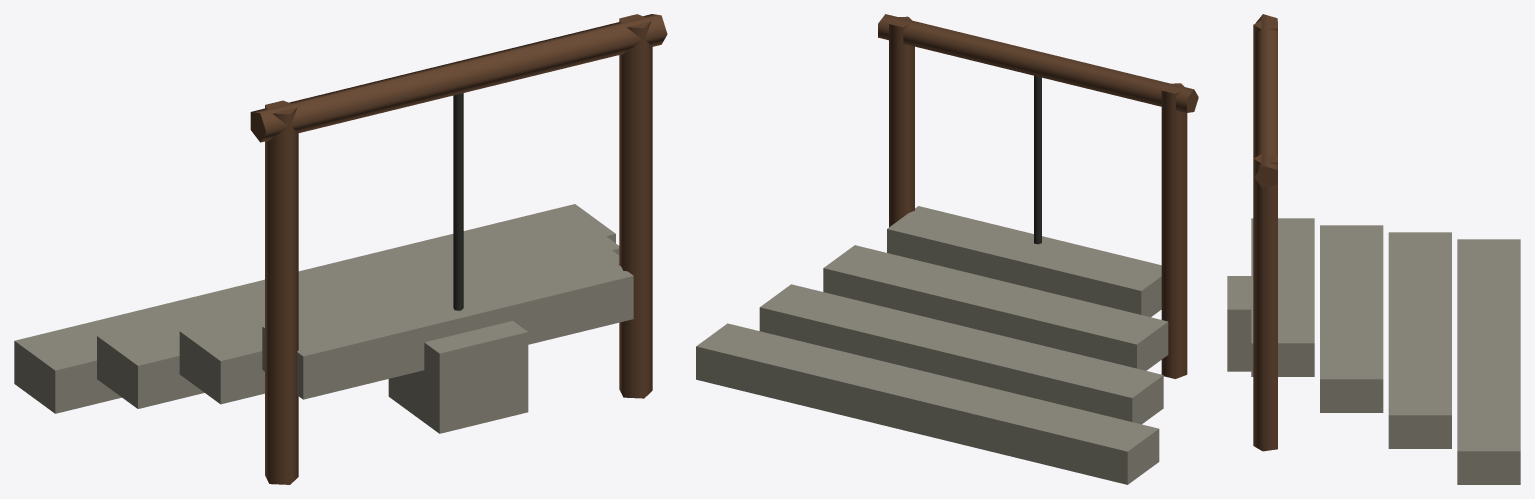
Rendered from custom-imp-quarry.glb.
3 renders of one model, left to right at view 1: azimuth 30°, elevation 25°; view 2: azimuth 150°, elevation 25°; view 3: azimuth 270°, elevation 25°, orthographic. The views are drawn at different scales.
Visible parts, largest first — view 1: custom-imp-quarry; view 2: custom-imp-quarry; view 3: custom-imp-quarry.
Part boxes in pixels (x1=…): custom-imp-quarry: x1=14, y1=14, x2=667, y2=484; custom-imp-quarry: x1=696, y1=14, x2=1198, y2=484; custom-imp-quarry: x1=1227, y1=14, x2=1520, y2=484.
Size of the model in its own units: 1 by 0.6356 by 0.5842.
